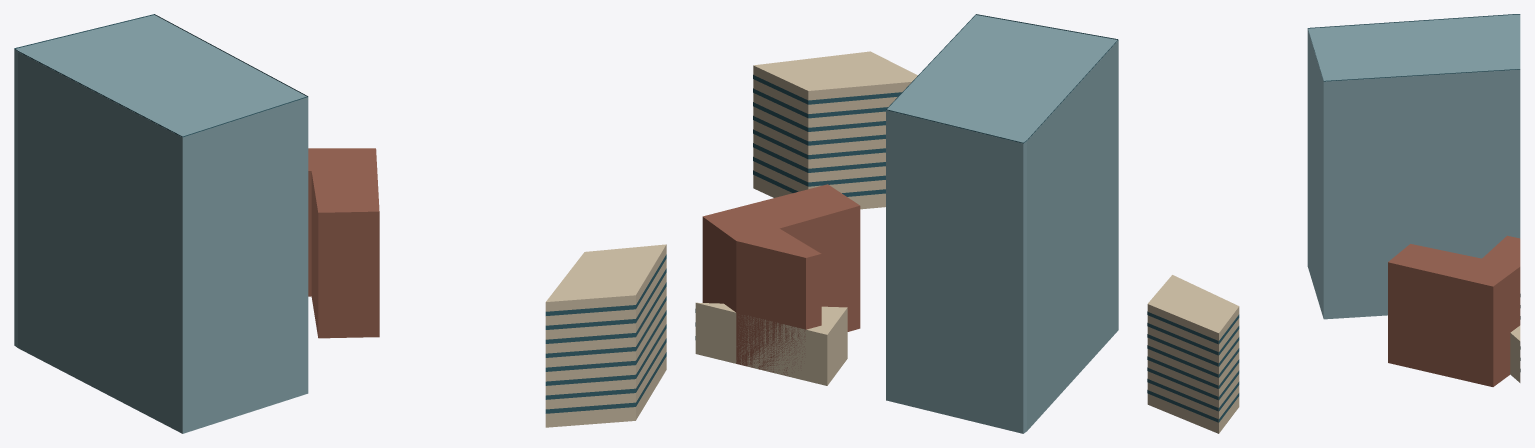
Rendered from city_-4_6.glb.
3 renders of one model, left to right at view 1: azimuth 30°, elevation 25°; view 2: azimuth 150°, elevation 25°; view 3: azimuth 270°, elevation 25°, orthographic. The views are drawn at different scales.
Parts seen in each view (by area): view 1: city_-4_6; view 2: city_-4_6; view 3: city_-4_6.
Part boxes in pixels (x1,y1,x2,y2): city_-4_6: (14,14,666,433); city_-4_6: (695,14,1118,433); city_-4_6: (1147,14,1520,433).
Bounding box in the file's own units: 139 × 85.25 × 121.
